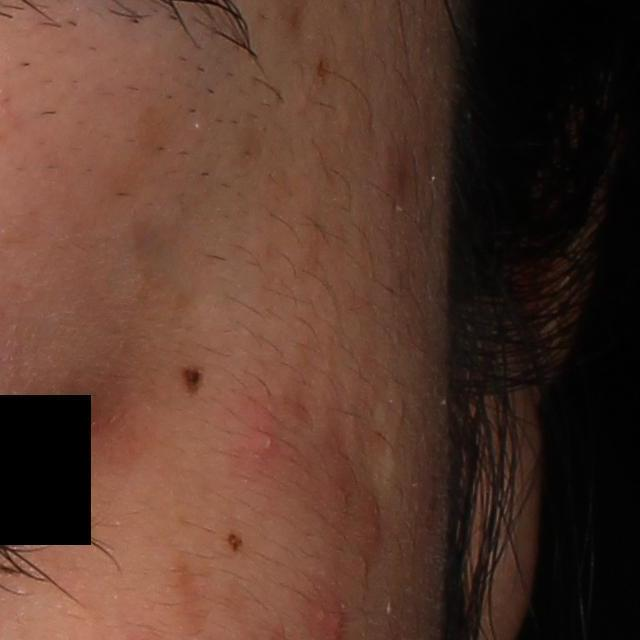nevus: (176, 357, 203, 392), (223, 526, 246, 556)
